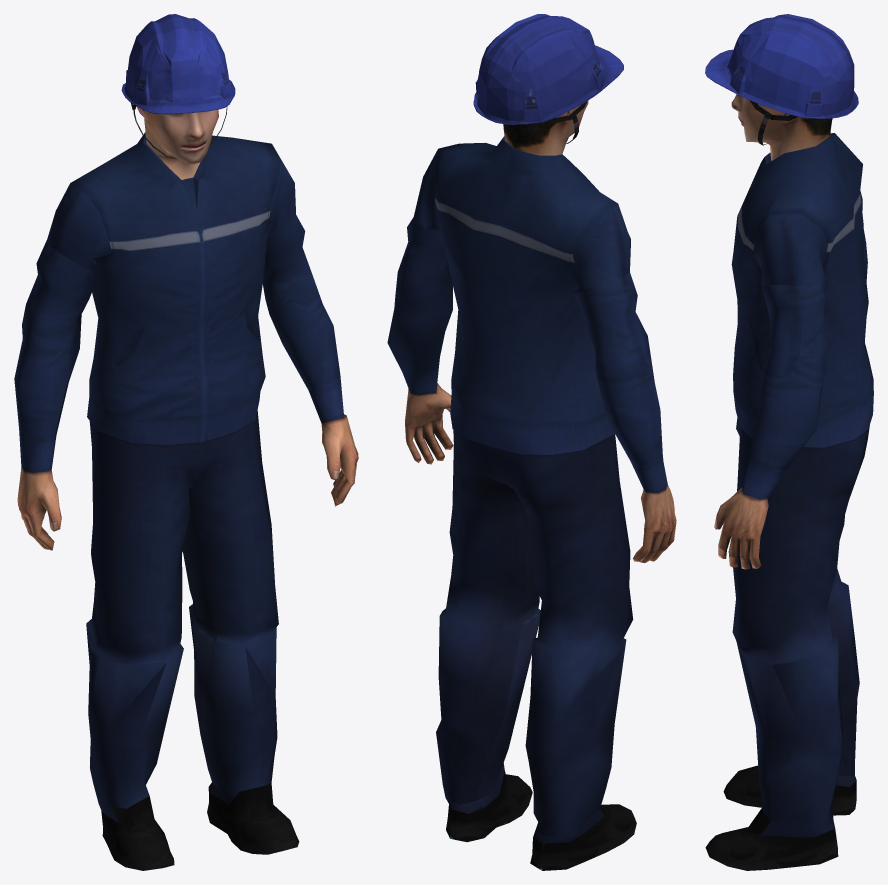
3 renders of one model, left to right at view 1: azimuth 30°, elevation 25°; view 2: azimuth 150°, elevation 25°; view 3: azimuth 270°, elevation 25°, orthographic.
Parts seen in each view (by area): view 1: Miner110; view 2: Miner110; view 3: Miner110.
Boxes of the visible parts, box(x1,y1,x2,y2) form: Miner110: box(14, 14, 358, 870); Miner110: box(387, 14, 676, 870); Miner110: box(705, 14, 873, 870).
Size of the model in its own units: 0.7189 by 1.89 by 0.3572.
2 materials, 2 textured.
